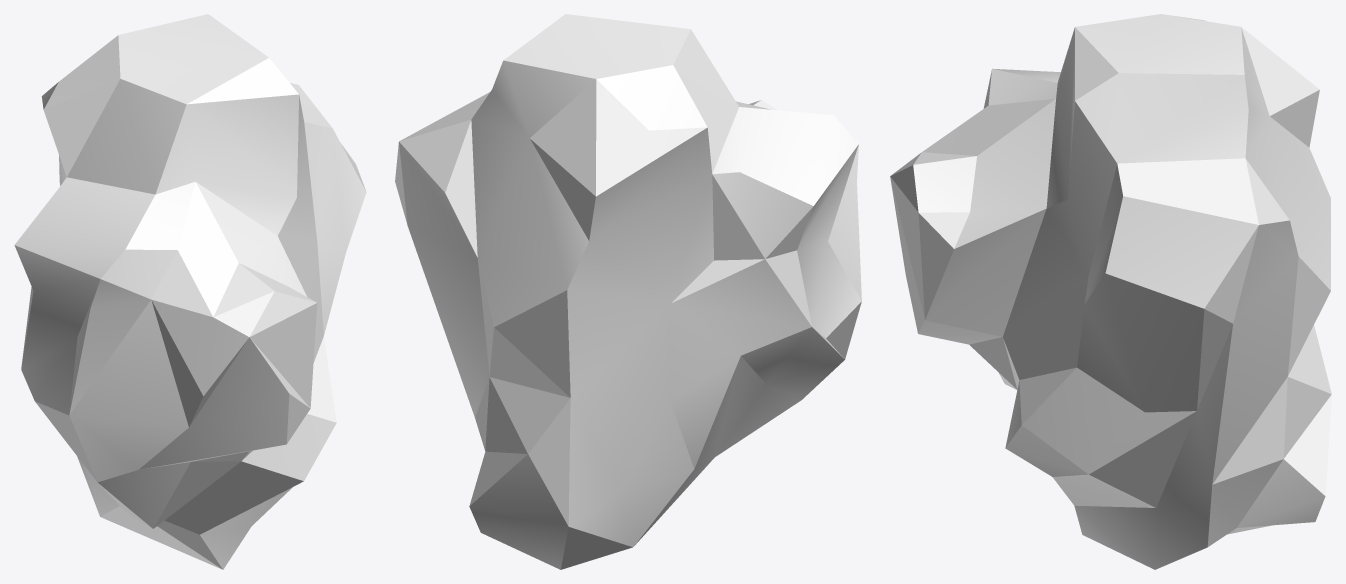
File: ground.rock1.glb
3 views of the same model, side by side, from view 1: azimuth 30°, elevation 25°; view 2: azimuth 150°, elevation 25°; view 3: azimuth 270°, elevation 25° (orthographic). The views are drawn at different scales.
Parts seen in each view (by area): view 1: rock1; view 2: rock1; view 3: rock1.
Part boxes in pixels (box(x1,y1,x2,y2)): rock1: box(14, 14, 366, 569); rock1: box(395, 14, 861, 569); rock1: box(890, 14, 1331, 569).
Bounding box in the file's own units: 0.9021 × 1.13 × 0.8895.
Materials: 1 (1 with a texture image).
